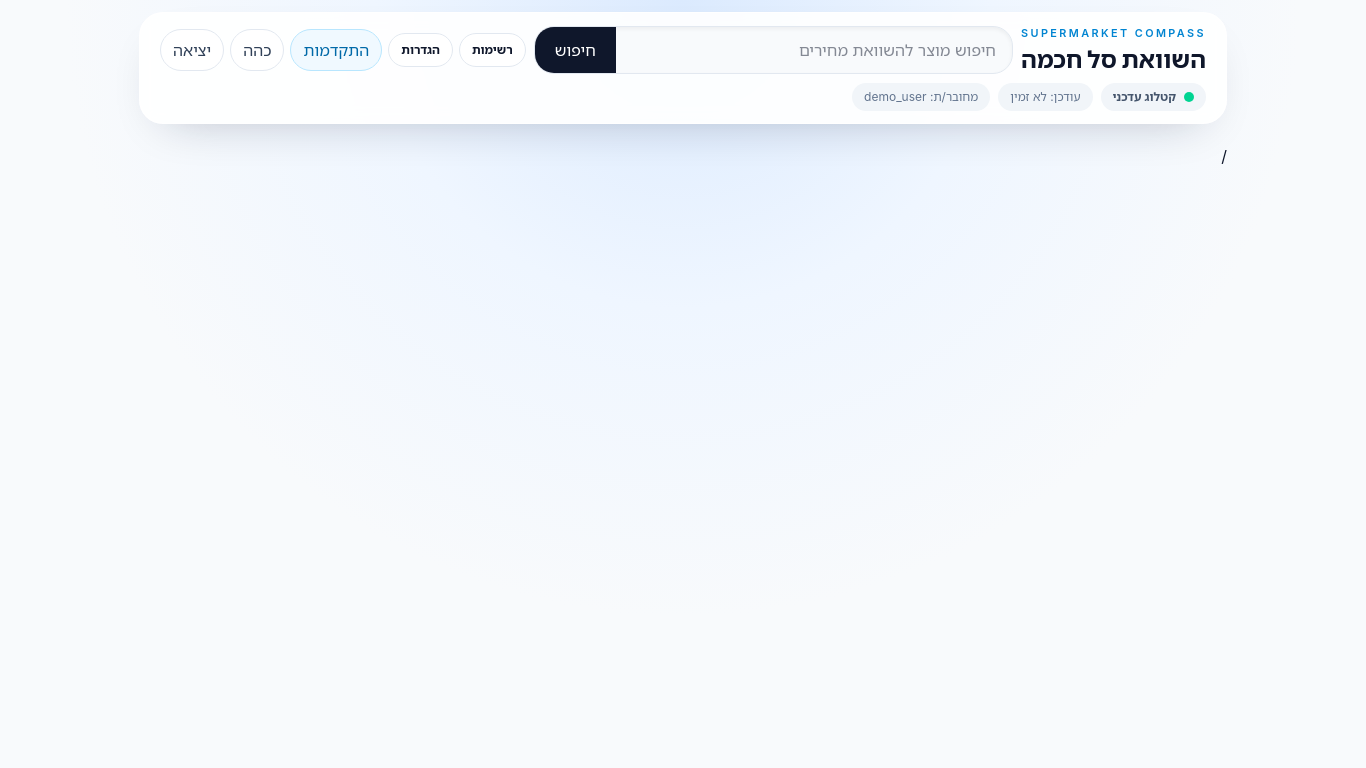
Test: AppShell › shows a starting state if progress details lag behind refresh status
Click the button named "הצג התקדמות" at [336, 50], box [290, 29, 382, 71]
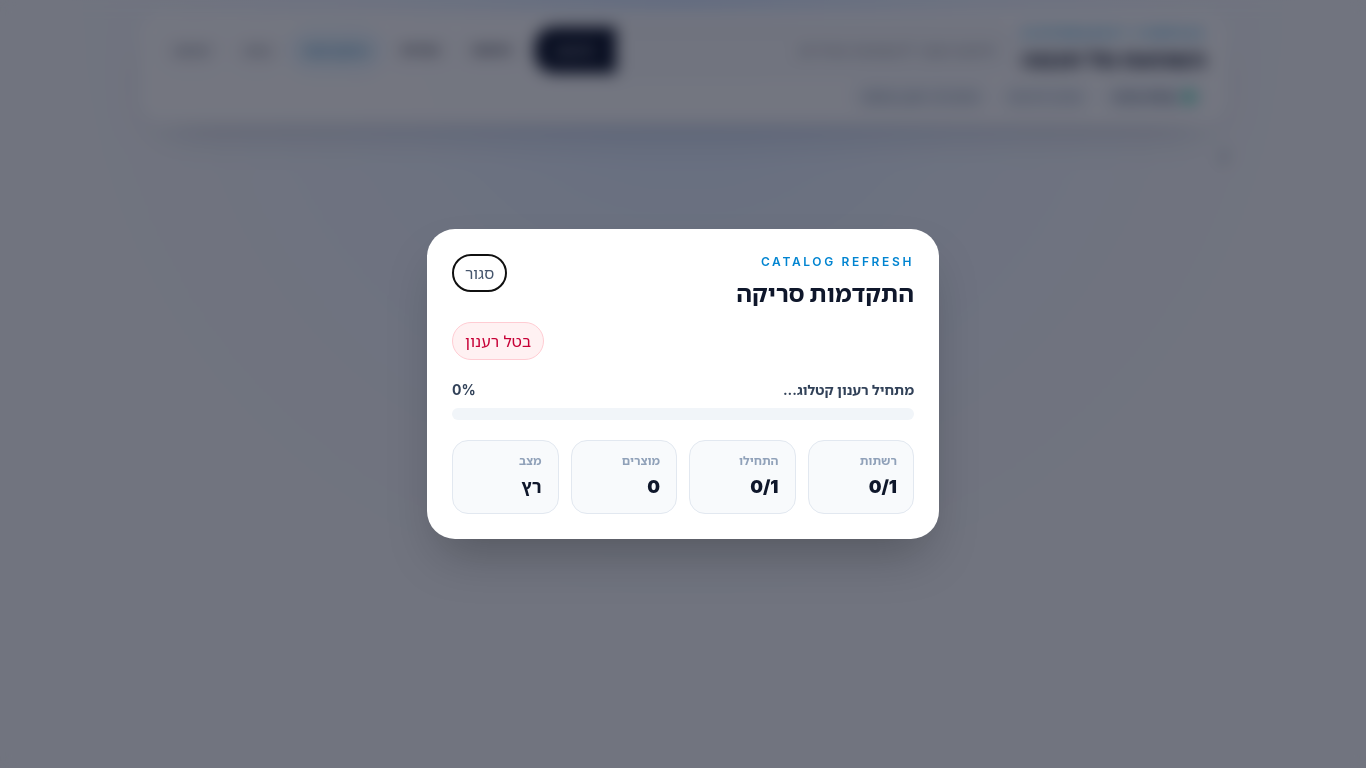
Result: the dialog "התקדמות סריקה" is shown at [427, 229, 939, 539]
Result: the text "מתחיל רענון קטלוג..." is shown at [783, 380, 914, 400]
